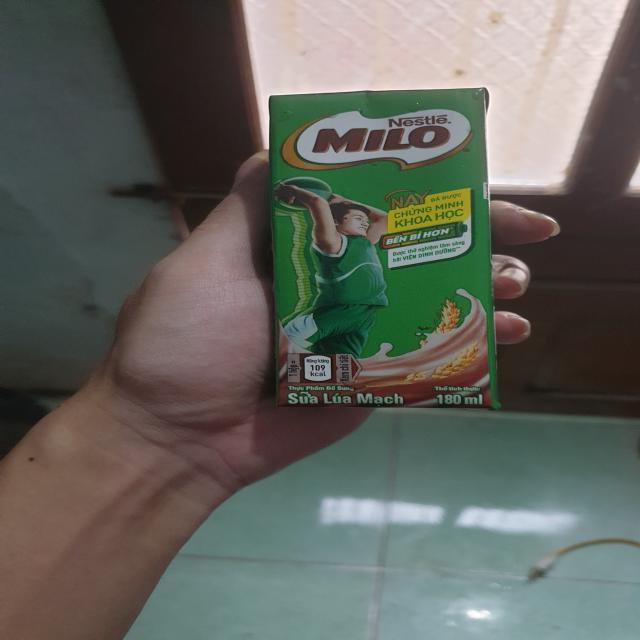Milo: (272, 84, 500, 414)
